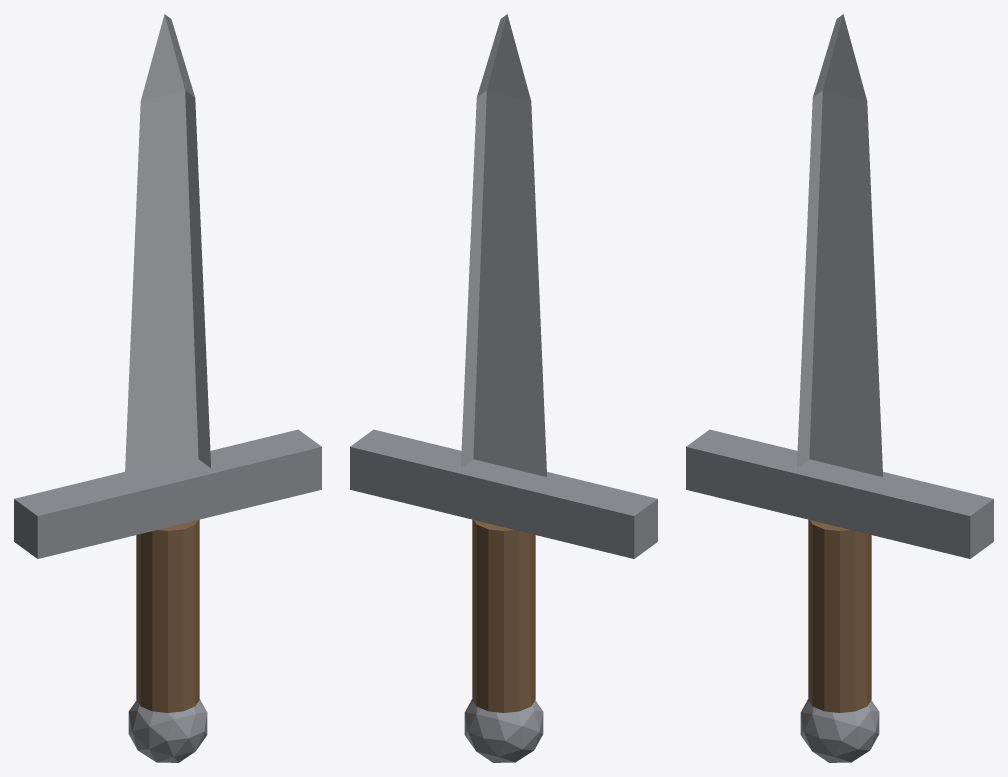
Rendered from shortsword.glb.
3 renders of one model, left to right at view 1: azimuth 30°, elevation 25°; view 2: azimuth 150°, elevation 25°; view 3: azimuth 330°, elevation 25°, orthographic.
Visible parts, largest first — view 1: sword_0_0, sword_0_1, sword_0_2, sword_0_3; view 2: sword_0_0, sword_0_1, sword_0_2, sword_0_3; view 3: sword_0_0, sword_0_1, sword_0_2, sword_0_3.
Boxes of the visible parts, x1,y1,x2,y2 form: sword_0_0: (125,14,210,476); sword_0_1: (14,429,321,558); sword_0_2: (136,519,199,712); sword_0_3: (128,699,207,762); sword_0_0: (461,14,546,476); sword_0_1: (350,429,657,558); sword_0_2: (472,519,535,712); sword_0_3: (464,699,543,762); sword_0_0: (797,14,882,476); sword_0_1: (686,429,993,558); sword_0_2: (808,519,871,712); sword_0_3: (800,699,879,762).
Bounding box in the file's own units: 1.25 × 3.12 × 0.3133.
